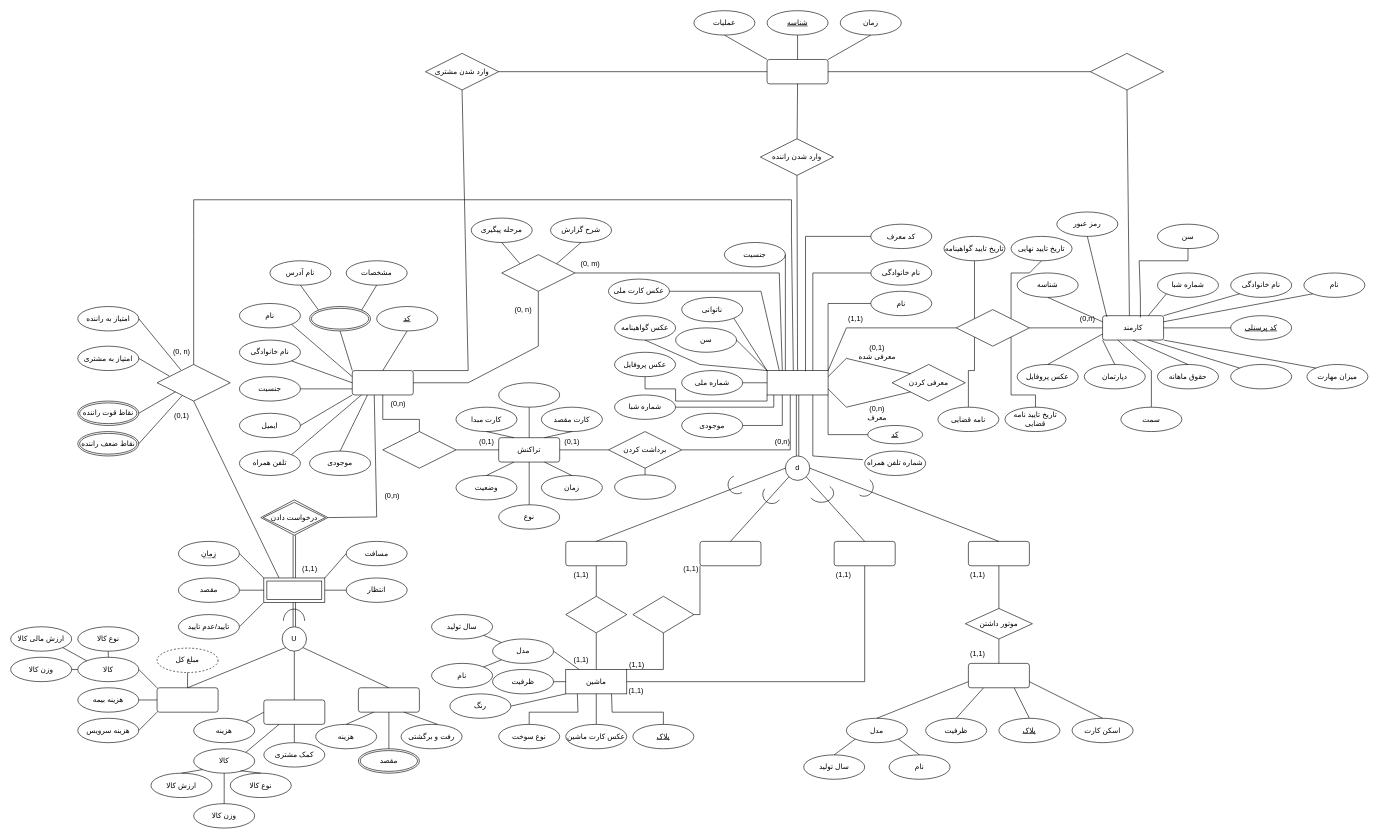
This 1379x839 diagram has some shape labels left out. Here are the shapes that lost their labels. From the top down, the box of each, then its label:
(766, 59, 828, 84): ورود
(1090, 53, 1164, 90): وارد شدن کارمند
(501, 254, 575, 291): گزارش دادن
(309, 306, 371, 331): آدرس
(956, 309, 1029, 346): تایید کردن
(156, 364, 230, 401): قبول کردن سفر
(352, 370, 413, 395): مشتری
(498, 382, 560, 407): کد رهگیری
(766, 370, 828, 395): راننده
(1230, 364, 1292, 389): مدرک تحصیلی
(382, 431, 456, 468): واریز کردن
(614, 474, 676, 499): روزانه/لحظه ای
(565, 541, 627, 566): بکسی
(699, 541, 761, 566): بکسی بانوان
(834, 541, 895, 566): بکس بار
(968, 541, 1029, 566): بکسی باکس
(263, 577, 325, 602): درخواست سفر
(565, 596, 627, 633): ماشین آقایان داشتن
(632, 596, 694, 633): ماشین بانوان داشتن
(968, 663, 1029, 688): موتور
(156, 687, 218, 712): حمل و نقل سبک
(263, 699, 325, 724): حمل و نقل سنگین
(358, 687, 419, 712): مسافرکشی
